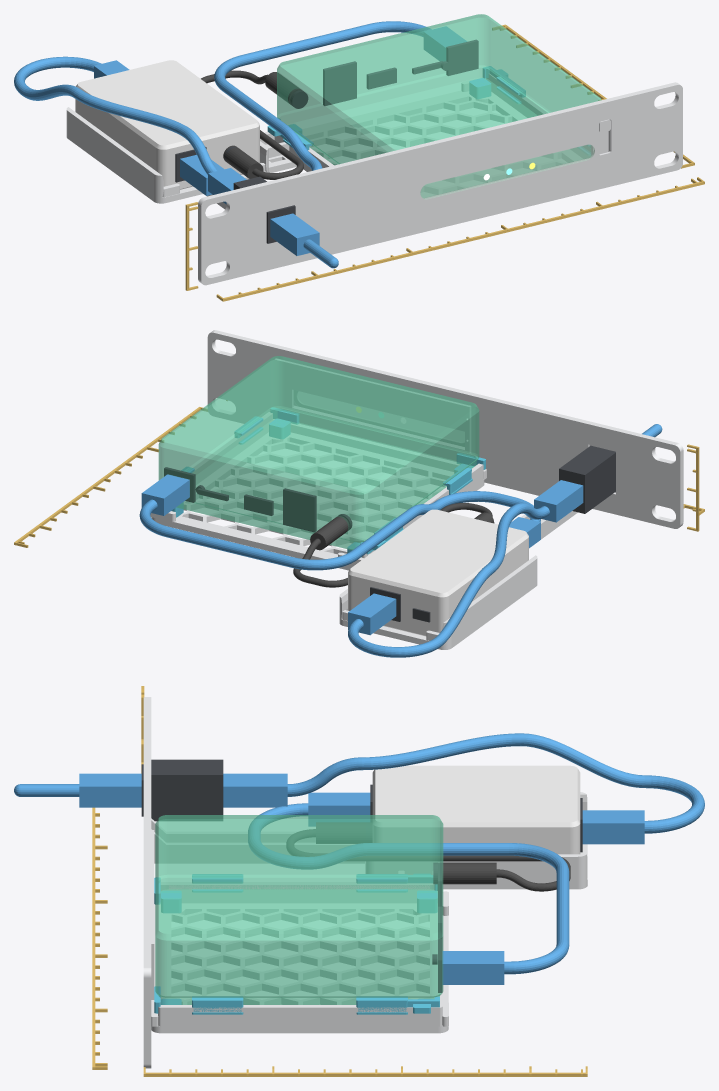
File: home-assistant-green-rack-front_ethernet_left.glb
3 renders of one model, top to bottom at view 1: azimuth 30°, elevation 25°; view 2: azimuth 150°, elevation 25°; view 3: azimuth 270°, elevation 25°, orthographic. The views are drawn at different scales.
Parts seen in each view (by area): view 1: White rack mount, Home Assistant Green, TP-Link TL-PD30G-M2, Green tray — standard, Front keystone → TP-Link PoE jumper, Internal Ethernet cable, 10 mm dimension rulers, Home Assistant Green connector faces, LED window insert, DC cable, Green retention — segmented rails + rear latch, Front keystone coupler (+2 smaller); view 2: Home Assistant Green, White rack mount, Green tray — standard, TP-Link TL-PD30G-M2, LED shutter retainer, Internal Ethernet cable, Front keystone → TP-Link PoE jumper, Home Assistant Green connector faces, Front keystone coupler, LED window insert, Green retention — segmented rails + rear latch, 10 mm dimension rulers (+2 smaller); view 3: Home Assistant Green, Green tray — standard, TP-Link TL-PD30G-M2, Front keystone → TP-Link PoE jumper, White rack mount, Internal Ethernet cable, Green retention — segmented rails + rear latch, Front keystone coupler, DC cable, 10 mm dimension rulers, Home Assistant Green connector faces, LED shutter retainer.
Boxes of the visible parts, x1=… form: White rack mount: x1=66, y1=82, x2=682, y2=285; Home Assistant Green: x1=277, y1=14, x2=601, y2=197; TP-Link TL-PD30G-M2: x1=75, y1=60, x2=259, y2=189; Green tray — standard: x1=274, y1=74, x2=547, y2=171; Front keystone → TP-Link PoE jumper: x1=14, y1=56, x2=338, y2=268; Internal Ethernet cable: x1=180, y1=21, x2=466, y2=195; 10 mm dimension rulers: x1=185, y1=24, x2=704, y2=301; Home Assistant Green connector faces: x1=290, y1=39, x2=478, y2=108; LED window insert: x1=420, y1=144, x2=594, y2=199; DC cable: x1=201, y1=70, x2=303, y2=179; Green retention — segmented rails + rear latch: x1=267, y1=66, x2=589, y2=153; Front keystone coupler: x1=233, y1=176, x2=295, y2=243; Home Assistant Green: x1=158, y1=356, x2=479, y2=550; White rack mount: x1=207, y1=330, x2=683, y2=649; Green tray — standard: x1=150, y1=412, x2=486, y2=570; TP-Link TL-PD30G-M2: x1=348, y1=509, x2=528, y2=636; LED shutter retainer: x1=274, y1=358, x2=470, y2=453; Internal Ethernet cable: x1=139, y1=474, x2=540, y2=570; Front keystone → TP-Link PoE jumper: x1=348, y1=424, x2=662, y2=657; Home Assistant Green connector faces: x1=164, y1=467, x2=352, y2=532; Front keystone coupler: x1=559, y1=445, x2=615, y2=513; LED window insert: x1=294, y1=391, x2=464, y2=446; Green retention — segmented rails + rear latch: x1=171, y1=407, x2=485, y2=557; 10 mm dimension rulers: x1=14, y1=400, x2=704, y2=547; Home Assistant Green: x1=155, y1=815, x2=443, y2=1004; Green tray — standard: x1=151, y1=882, x2=448, y2=1033; TP-Link TL-PD30G-M2: x1=372, y1=765, x2=580, y2=854; Front keystone → TP-Link PoE jumper: x1=14, y1=733, x2=704, y2=844; White rack mount: x1=143, y1=697, x2=587, y2=1068; Internal Ethernet cable: x1=248, y1=792, x2=569, y2=984; Green retention — segmented rails + rear latch: x1=154, y1=874, x2=439, y2=1014; Front keystone coupler: x1=141, y1=759, x2=223, y2=821; DC cable: x1=286, y1=822, x2=570, y2=891; 10 mm dimension rulers: x1=92, y1=686, x2=587, y2=1076; Home Assistant Green connector faces: x1=432, y1=862, x2=442, y2=992; LED shutter retainer: x1=151, y1=830, x2=154, y2=999.
Size of what is drawn, in the model's own units: 268 by 43 by 269.
